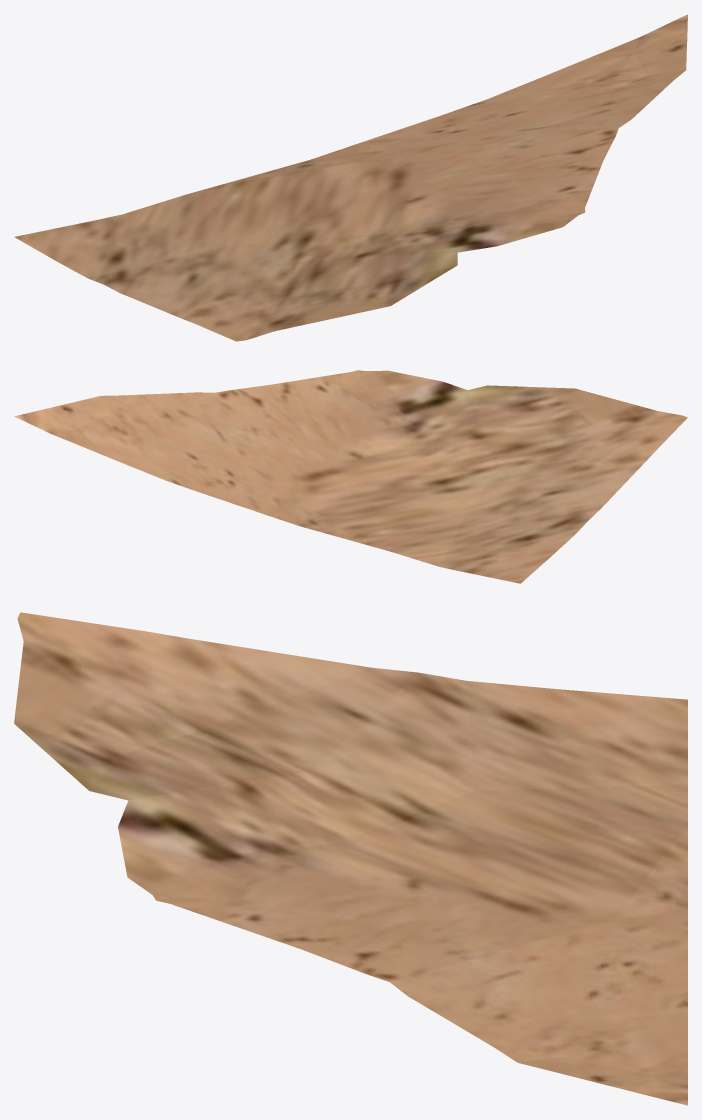
3 renders of one model, top to bottom at view 1: azimuth 30°, elevation 25°; view 2: azimuth 150°, elevation 25°; view 3: azimuth 270°, elevation 25°, orthographic. The views are drawn at different scales.
Size of the model in its own units: 1.14 by 0.1002 by 0.6576.
1 material, 1 textured.
